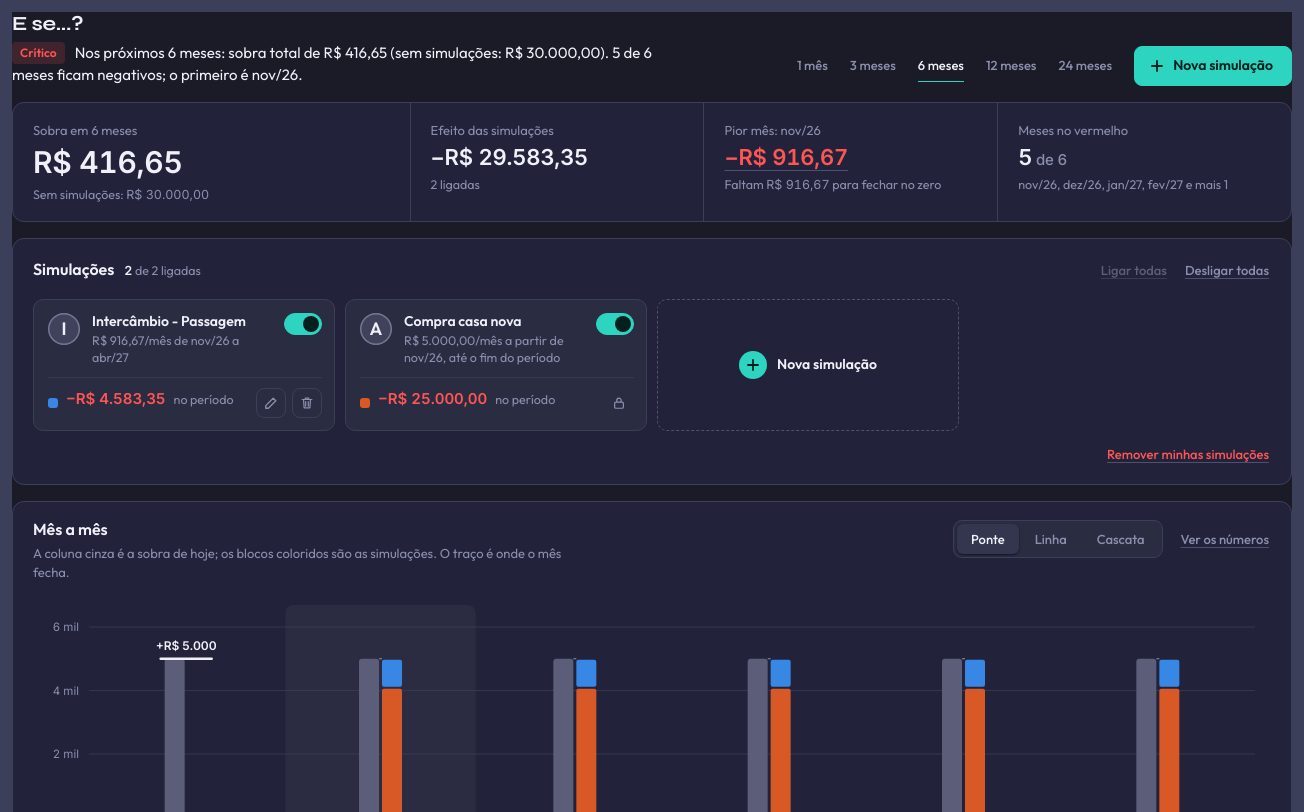
Test: WhatIfView: dados do back-end › mostra quantas estão ligadas e um switch em cada cartão; desligar não vai ao servidor
Expected: the text "2 de 2 ligadas" is shown, [124, 261, 201, 281]
Click the switch named "Intercâmbio - Passagem: ligada".
click(303, 324)  # box [284, 313, 322, 335]
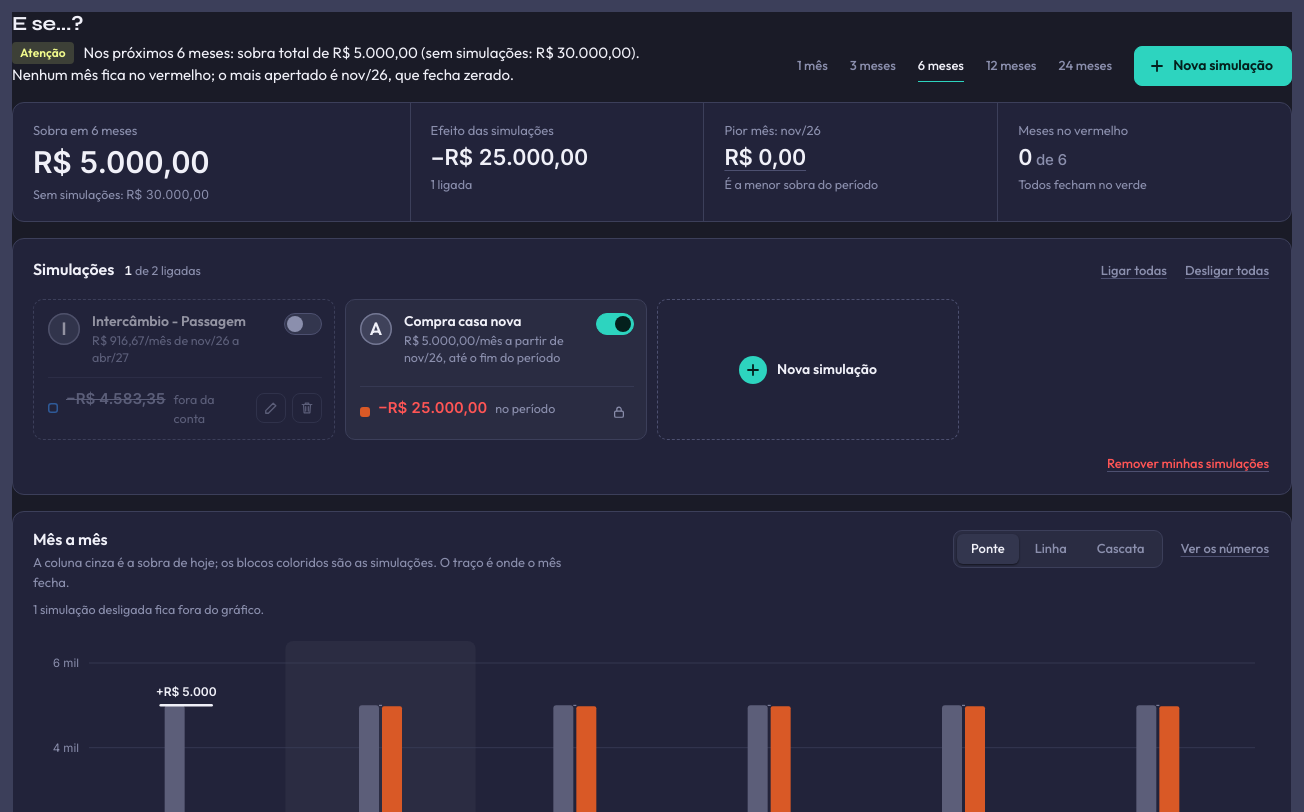
Expected: the text "1 de 2 ligadas" is shown, [124, 261, 201, 281]
Expected: the text "1 simulação desligada fica fora do gráfico." is shown, [33, 601, 264, 617]
